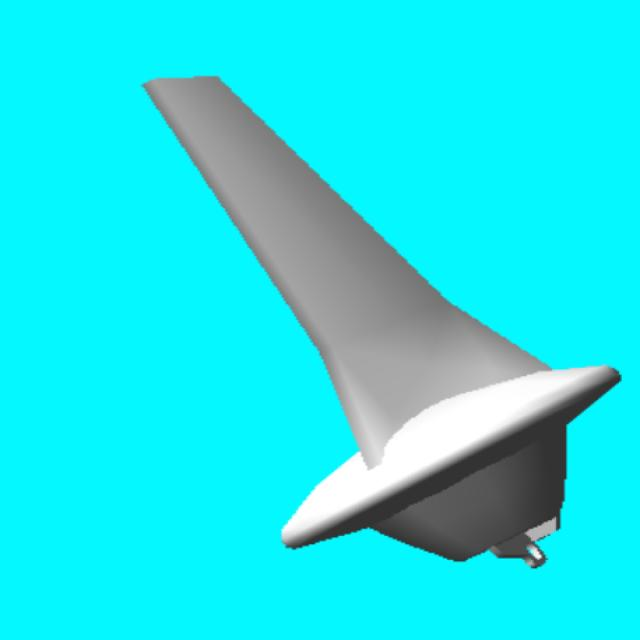WhiteBuoy: (145, 78, 619, 567)
